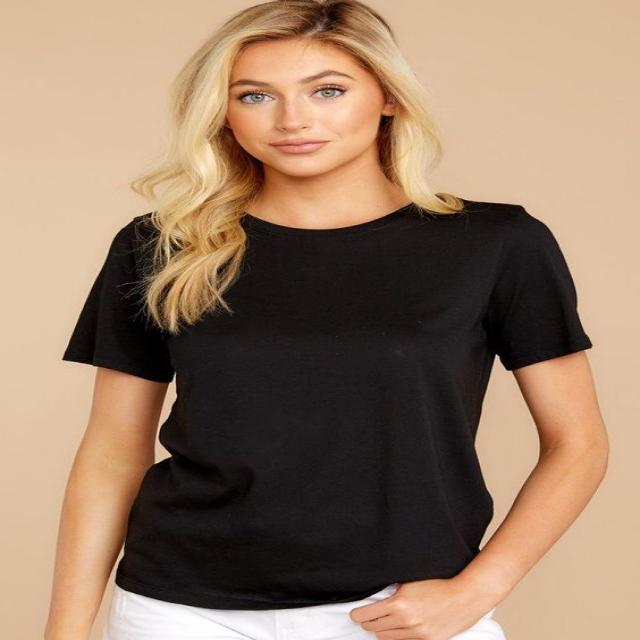shoulder: (98, 199, 560, 313)
